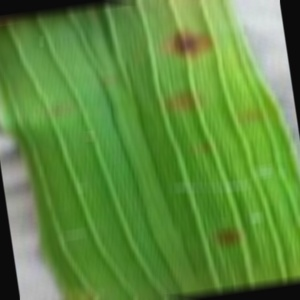Bacterial_Leaf_Blight: (158, 15, 217, 65), (162, 85, 209, 118), (205, 218, 246, 252), (44, 102, 73, 120), (195, 141, 218, 157), (26, 35, 41, 49), (37, 36, 49, 46)
